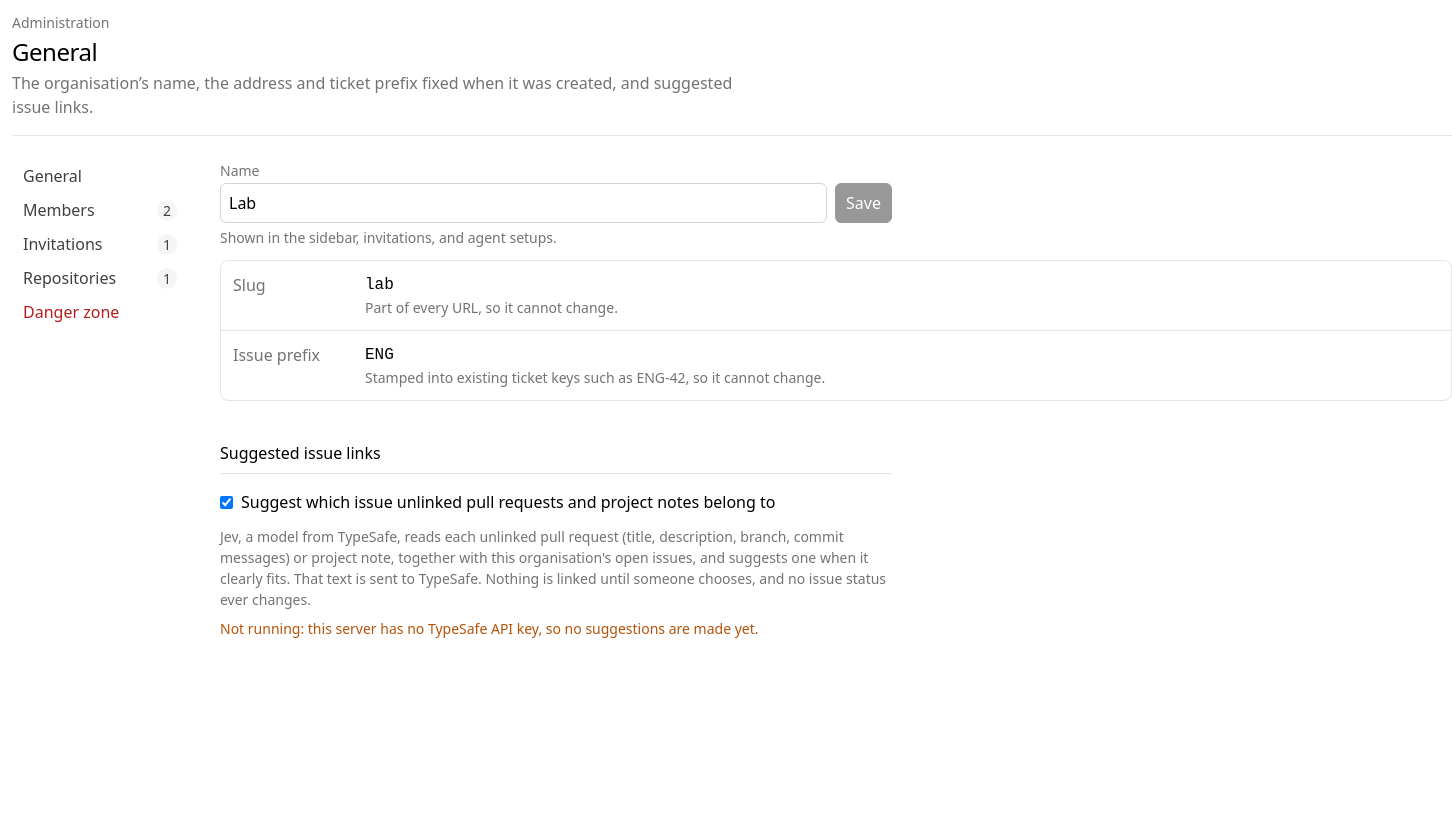
Test case: Admin › shows the API validation error when the organisation name cannot be saved
Replace the text in the field named "Organisation name" with "Invalid request" at [524, 203], box x1=220 y1=183 x2=827 y2=223
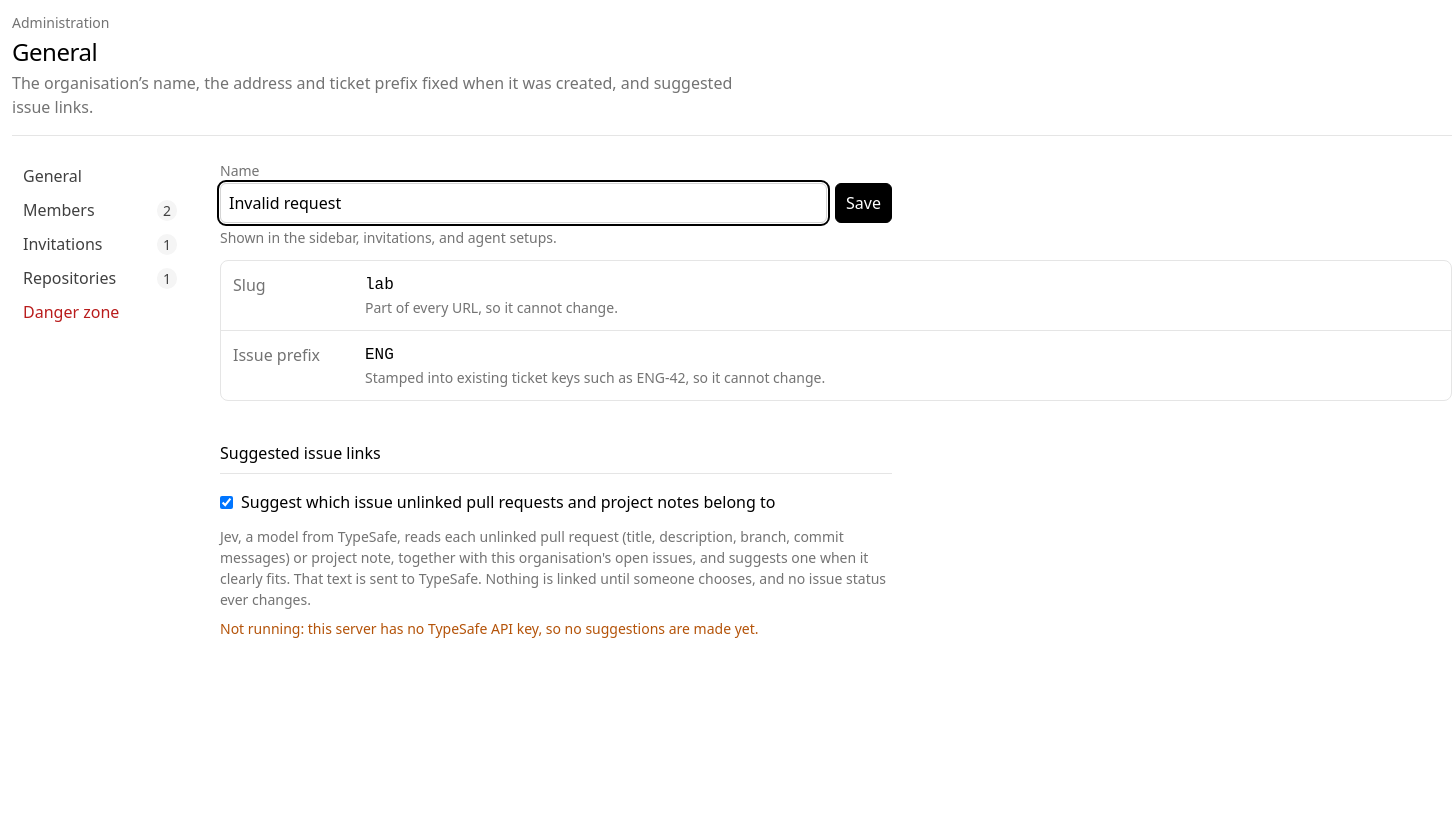
Click the button "Save" at [864, 203], box x1=835 y1=183 x2=892 y2=223
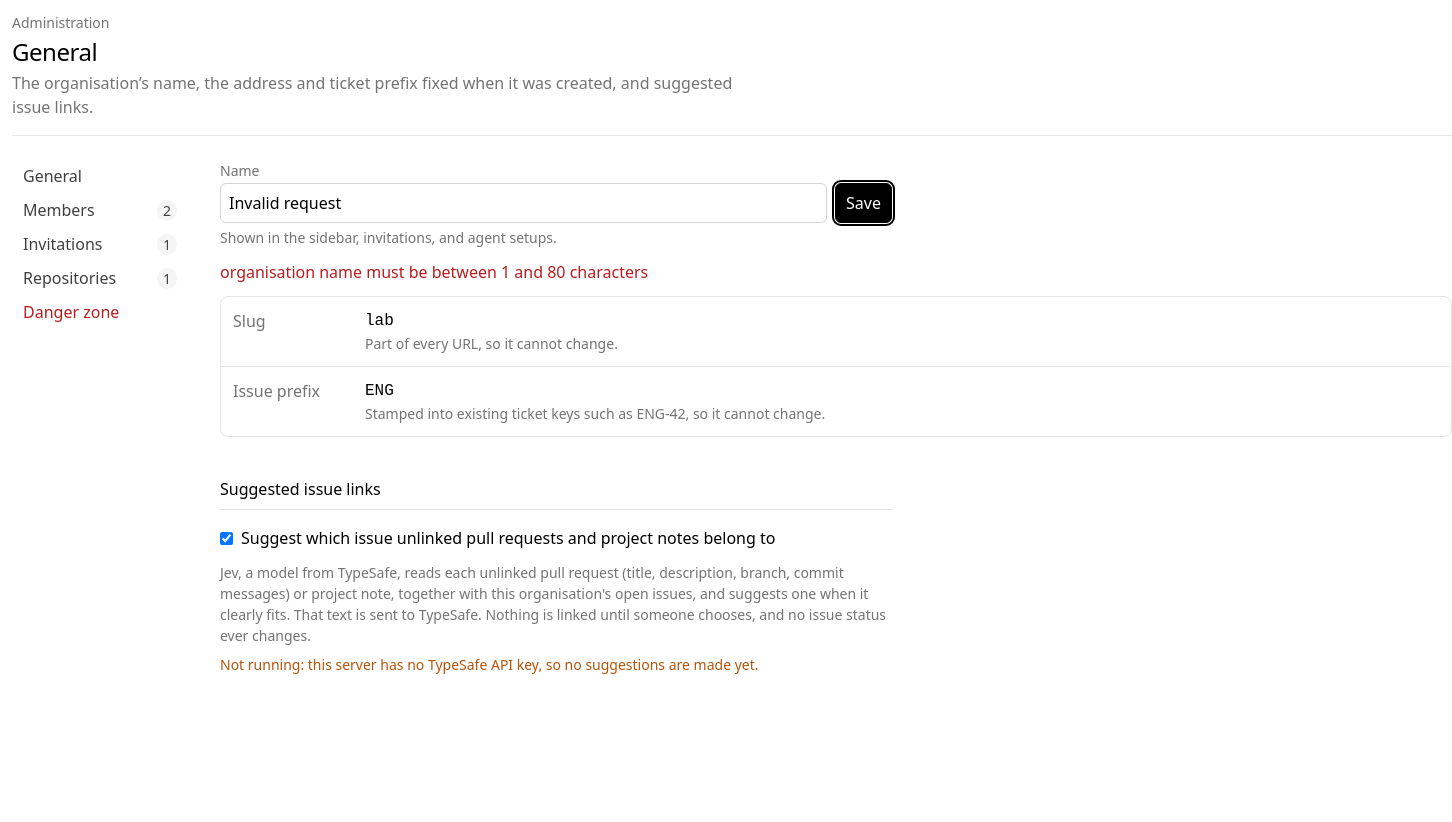
Now the message reads "organisation name must be between 1 and 80 characters", box x1=220 y1=261 x2=648 y2=283
